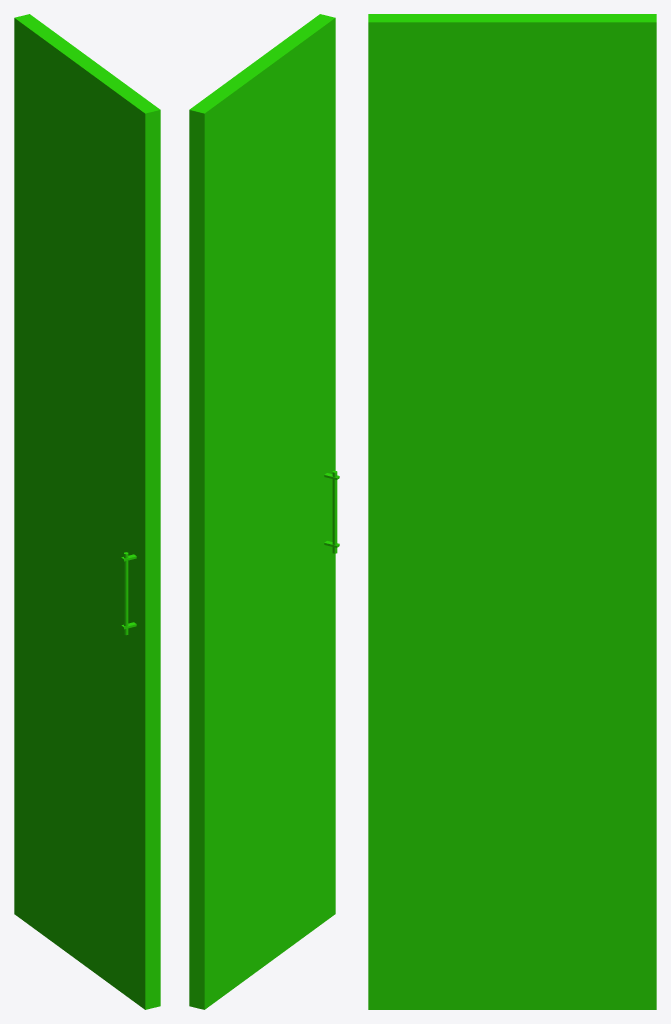
The model's file is Office_Cupboard_01_Door_L_Lod0.fbx.
3 renders of one model, left to right at view 1: azimuth 30°, elevation 25°; view 2: azimuth 150°, elevation 25°; view 3: azimuth 270°, elevation 25°, orthographic. The views are drawn at different scales.
Parts seen in each view (by area): view 1: Office_Cupboard_01_Door_L_Lod0; view 2: Office_Cupboard_01_Door_L_Lod0; view 3: Office_Cupboard_01_Door_L_Lod0.
Boxes of the visible parts, x1,y1,x2,y2 form: Office_Cupboard_01_Door_L_Lod0: (14, 14, 160, 1009); Office_Cupboard_01_Door_L_Lod0: (189, 14, 339, 1009); Office_Cupboard_01_Door_L_Lod0: (368, 14, 656, 1009).
Bounding box in the file's own units: 6.5 × 198 × 52.33.
